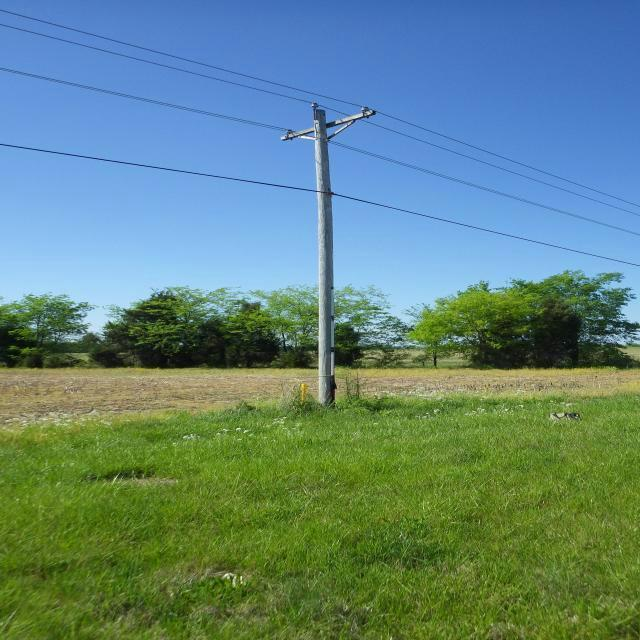crossarm: (283, 109, 377, 141)
pole: (313, 108, 334, 405)
wire: (1, 9, 640, 207), (0, 23, 640, 218), (0, 143, 639, 268), (328, 140, 640, 236), (0, 65, 295, 133)
